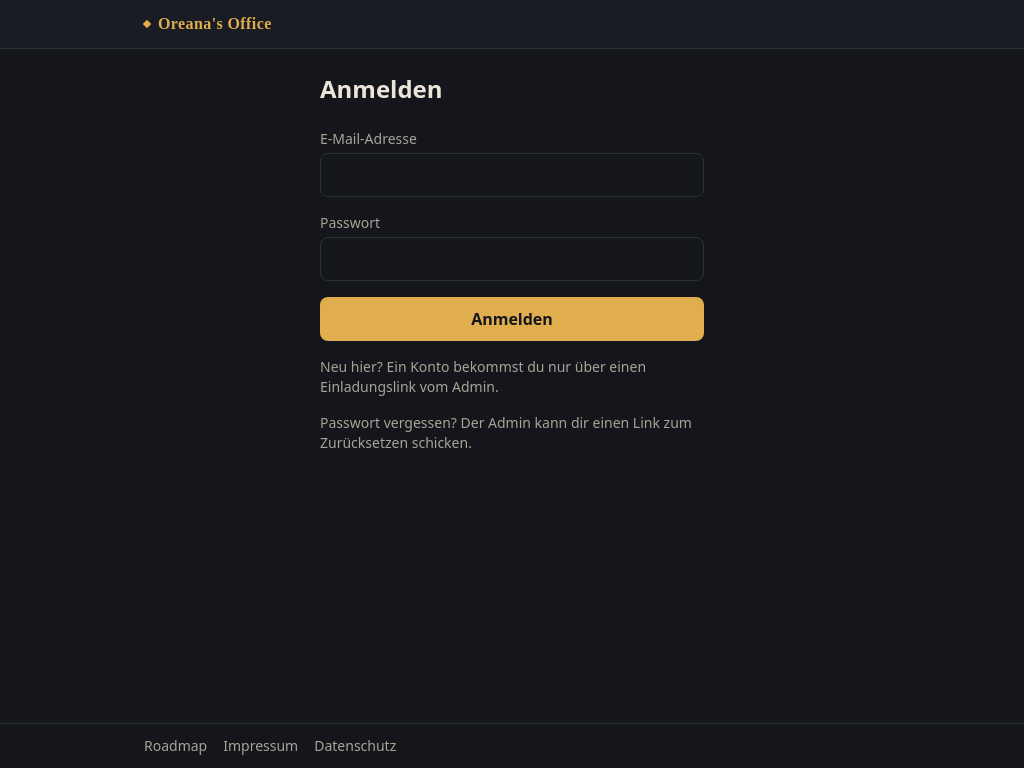
Test: SignInPage › shows the German message for wrong credentials
The width and height of the screenshot is (1024, 768).
Type "mira@example.org" into the field labelled "E-Mail-Adresse" at (512, 175), box x1=320 y1=153 x2=704 y2=197
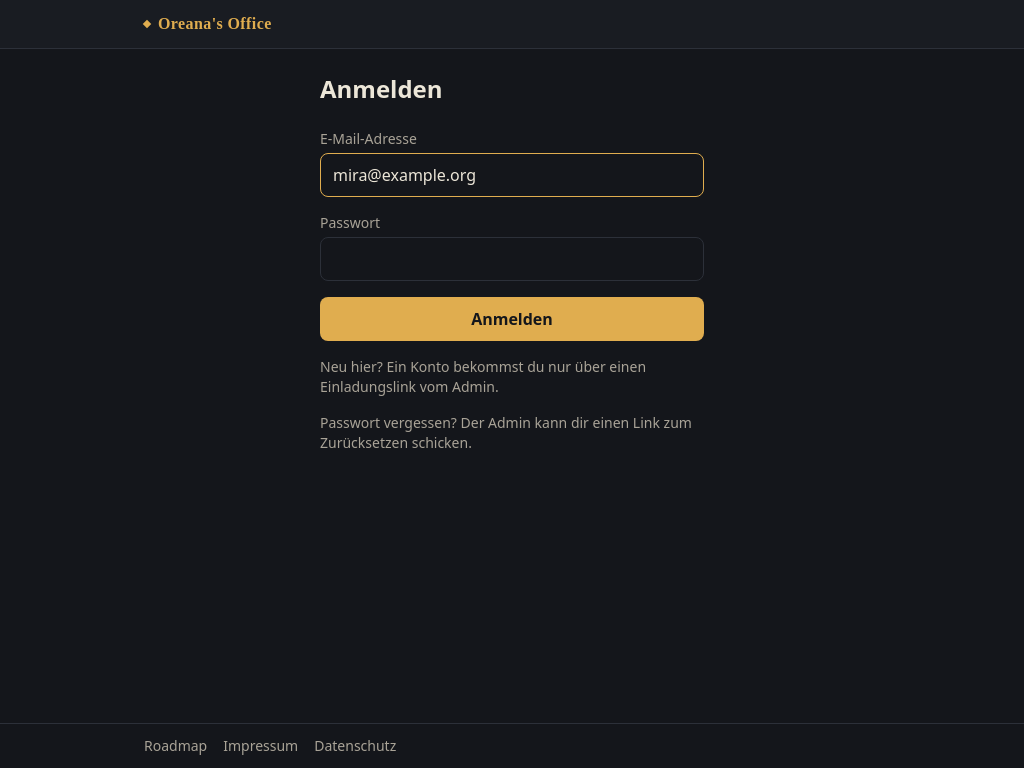
Type "falsch123" into the password field labelled "Passwort" at (512, 259), box x1=320 y1=237 x2=704 y2=281
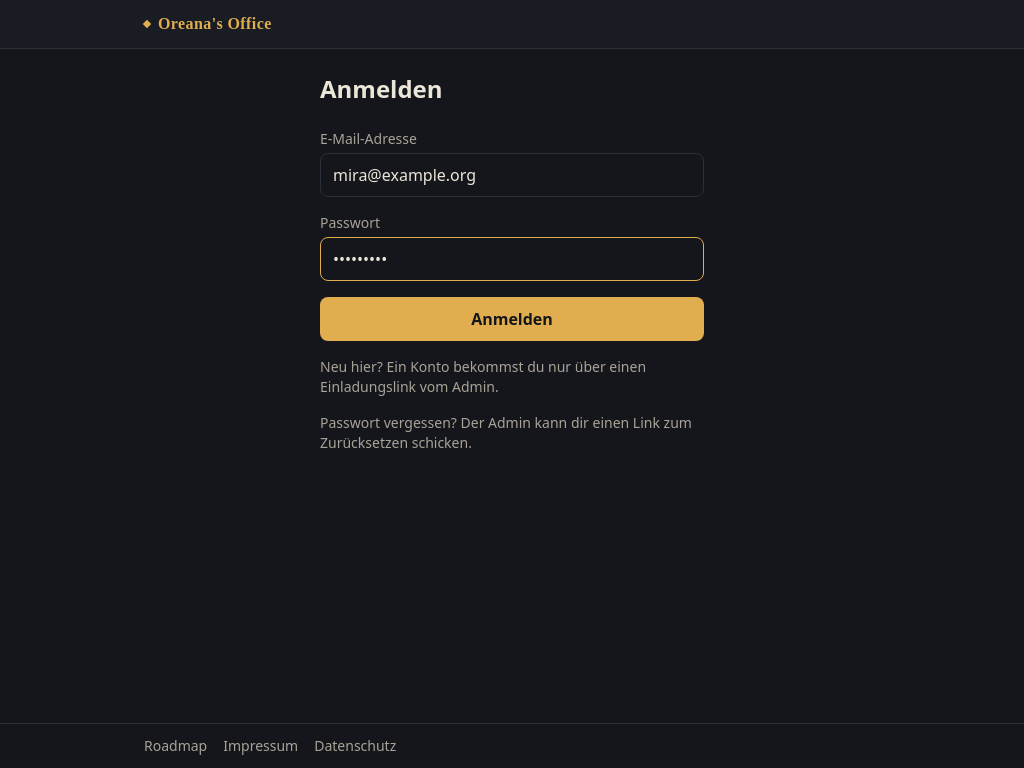
Click the button "Anmelden" at (512, 319), box x1=320 y1=297 x2=704 y2=341
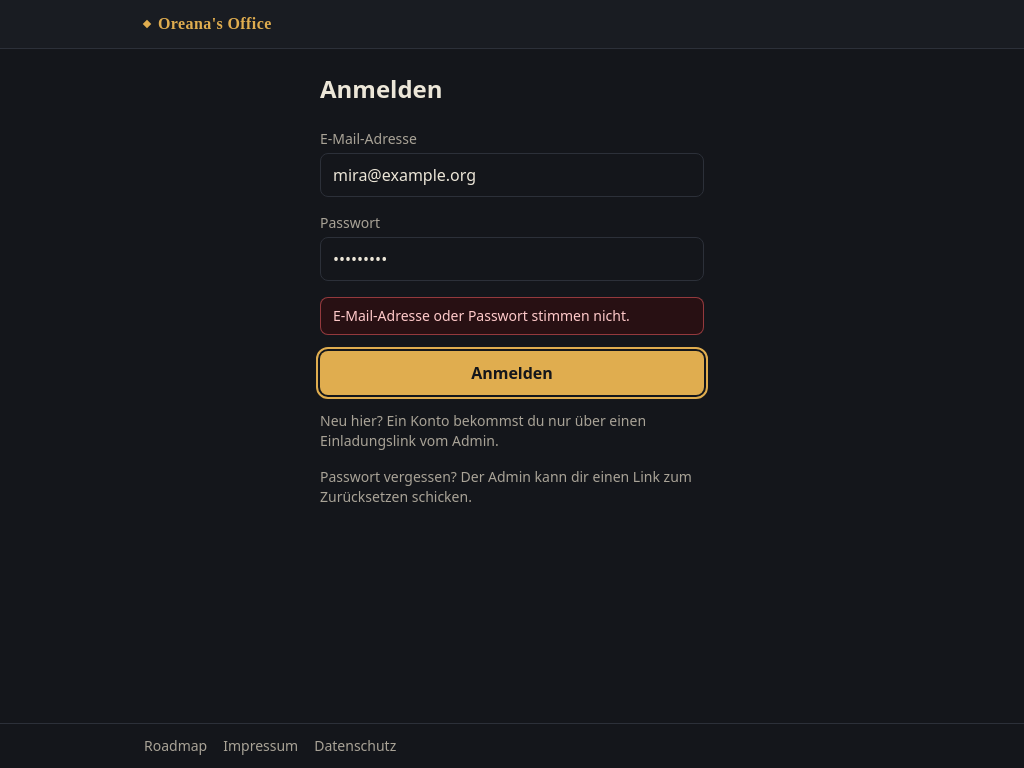
Check: the message reads "E-Mail-Adresse oder Passwort stimmen nicht.", box x1=333 y1=306 x2=630 y2=325
